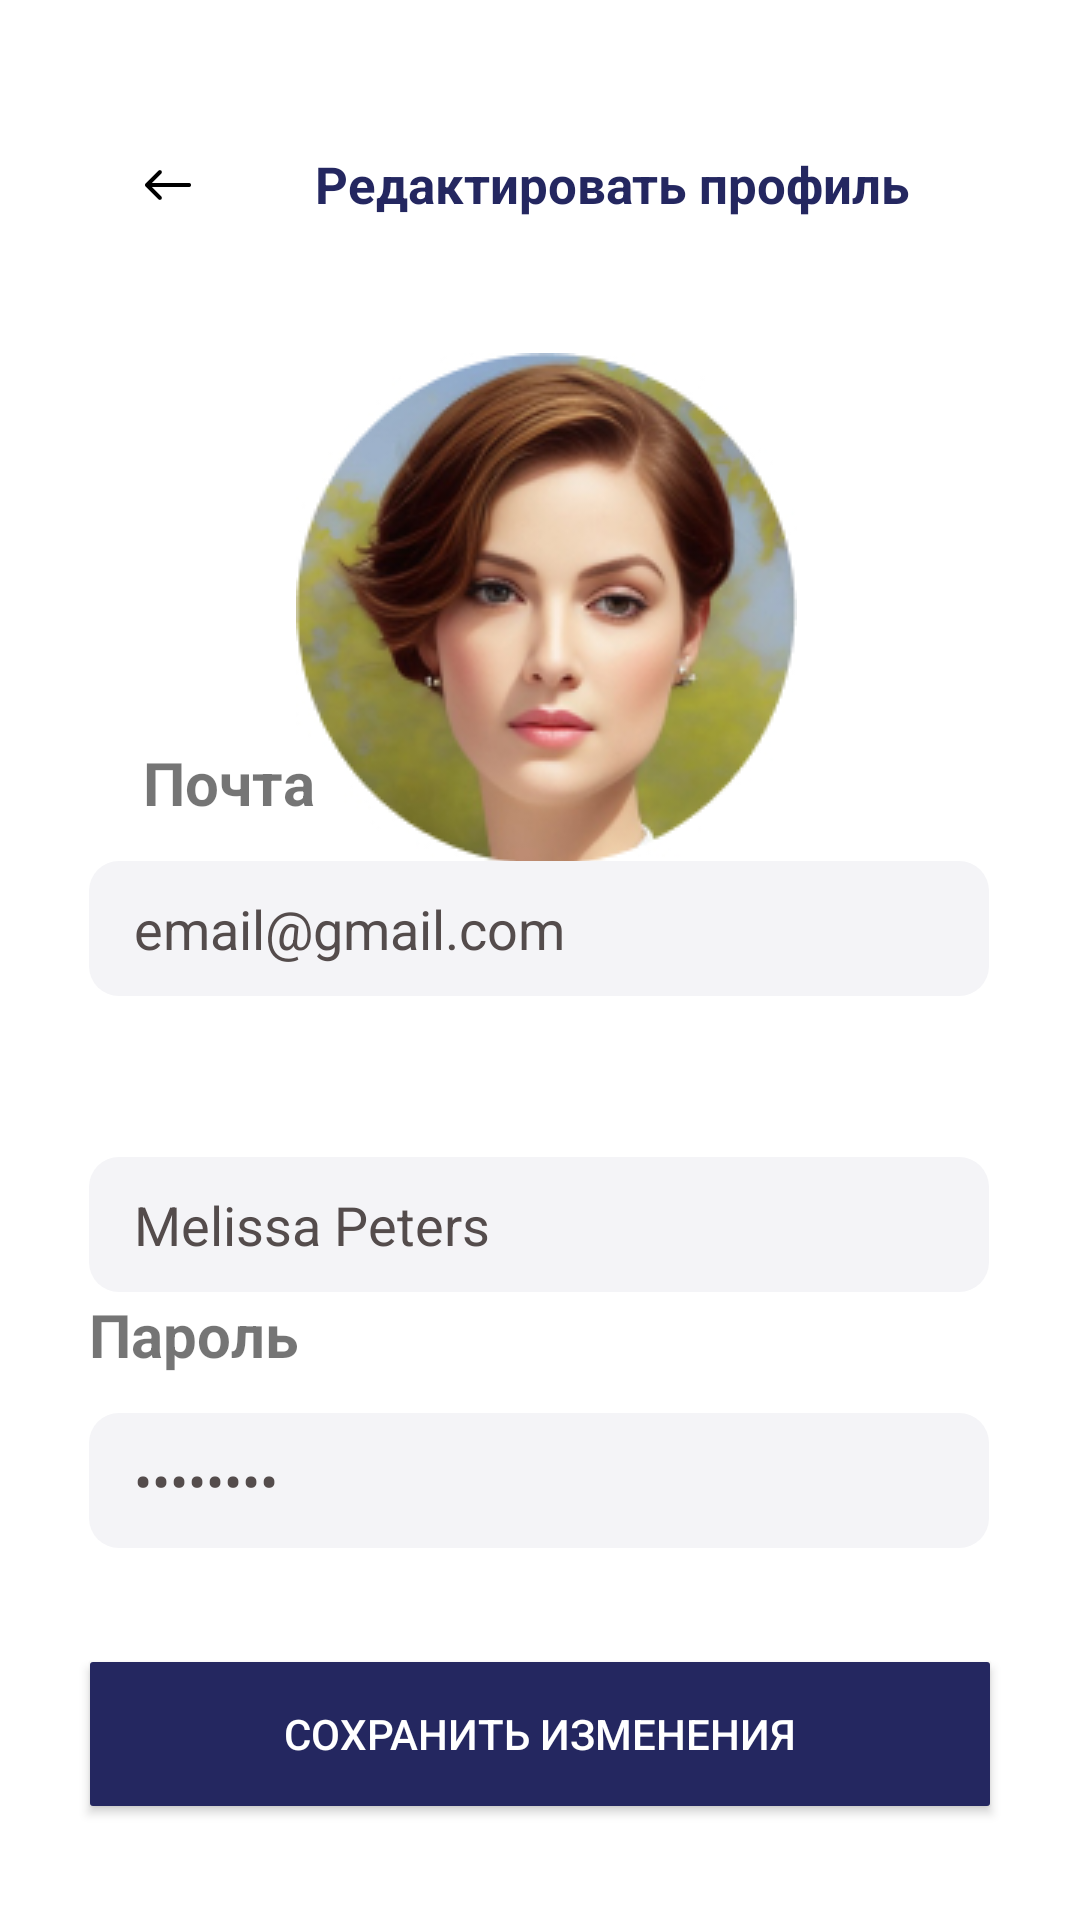

Icon bounding boxes for this 1080*1920 phone screenshot, format box=[x1, y1, x2, y2]:
back: box=[145, 170, 191, 200]
